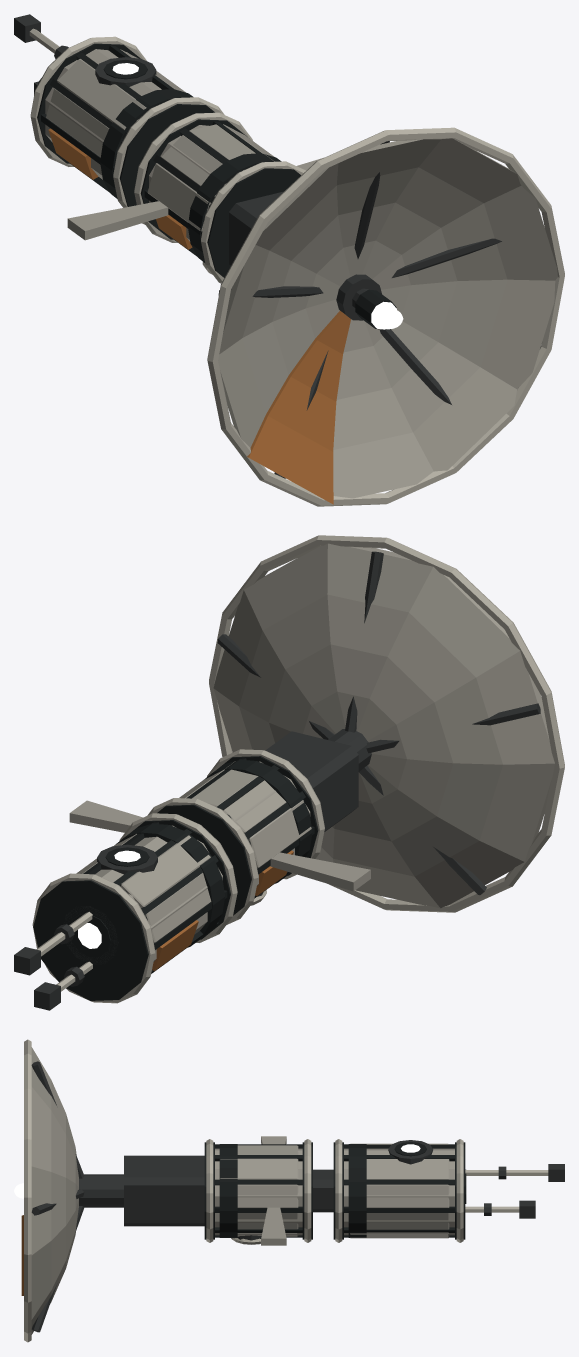
3 views of the same model, one above another, from view 1: azimuth 30°, elevation 25°; view 2: azimuth 150°, elevation 25°; view 3: azimuth 270°, elevation 25° (orthographic). The views are drawn at different scales.
Parts seen in each view (by area): view 1: RIMWARD_HULL; view 2: RIMWARD_HULL, RIMWARD_EMISSIVE; view 3: RIMWARD_HULL.
Boxes of the visible parts, bbox=[...] form: RIMWARD_HULL: bbox=[14, 14, 564, 506]; RIMWARD_HULL: bbox=[14, 535, 564, 1010]; RIMWARD_EMISSIVE: bbox=[78, 850, 140, 948]; RIMWARD_HULL: bbox=[21, 1039, 564, 1342].
Size of the model in its own units: 4.04 by 4.04 by 7.34.
